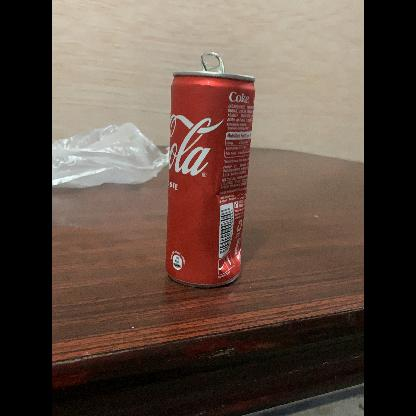Dent_Can: (211, 234, 241, 271), (207, 183, 243, 211)
Lid_Open: (196, 49, 232, 81)
Tin_Can: (160, 49, 258, 298)
